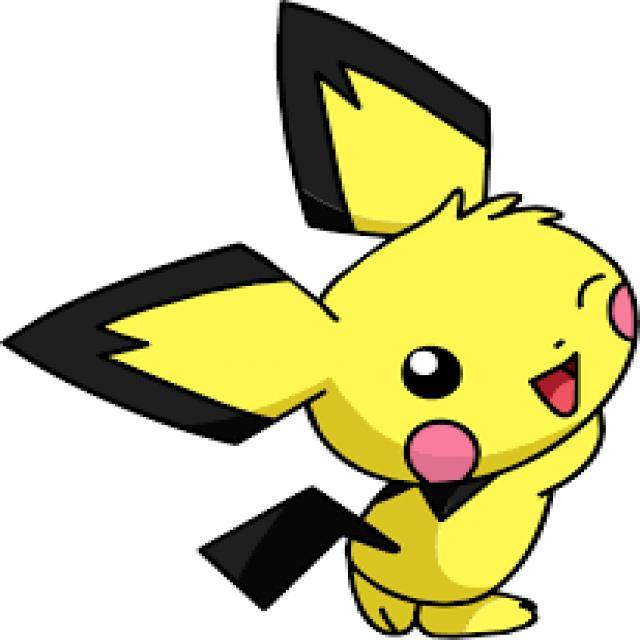pichu: (12, 13, 640, 640)
